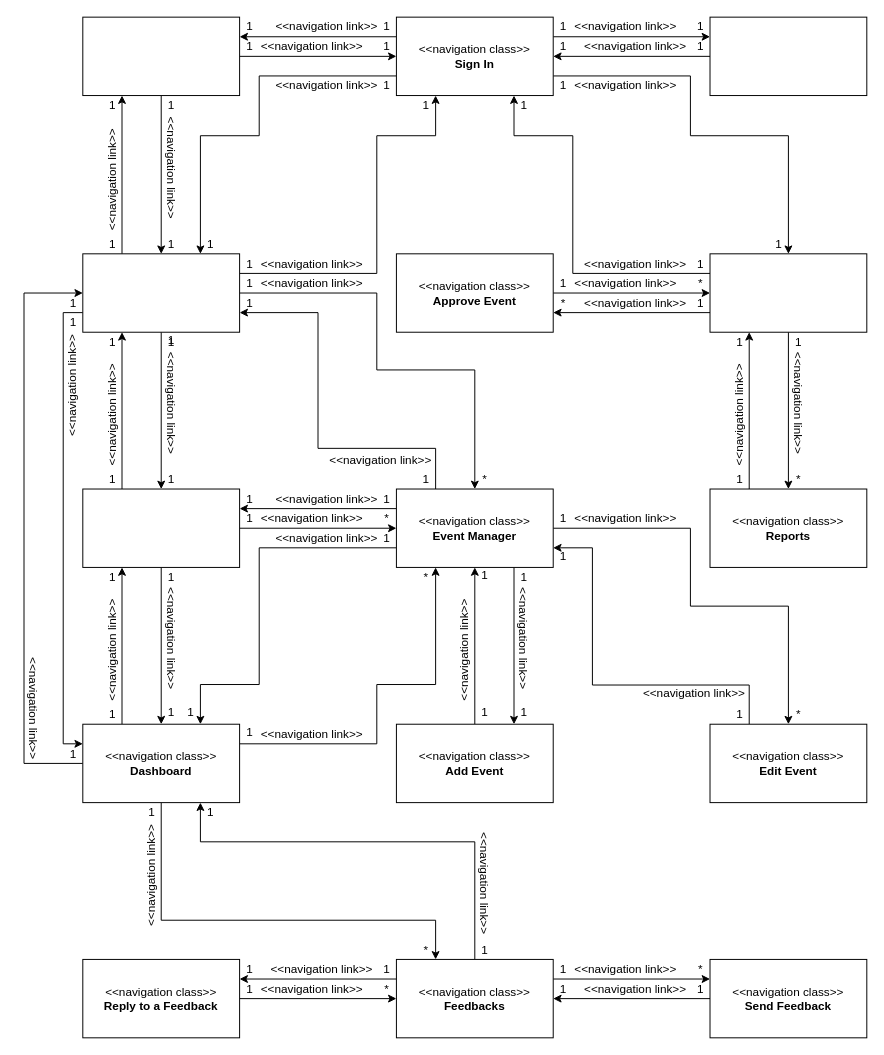
Some shapes in this 884 by 1055 pixel diagram are drawn without their labels. The centre of each missing label's shape, as x and y in pixels:
<<navigation class>> Admin: pixel 788 292
<<navigation class>> Index: pixel 161 292
<<navigation class>> Profile: pixel 161 527
<<navigation class>> Reset Password: pixel 788 56
<<navigation class>> Sign Up: pixel 161 56
